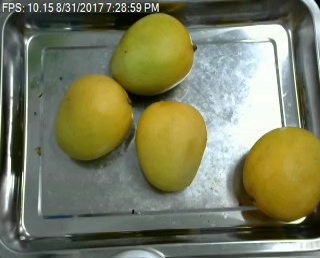Mango: (241, 125, 320, 222), (110, 13, 196, 96), (56, 72, 134, 161), (137, 101, 208, 192)
